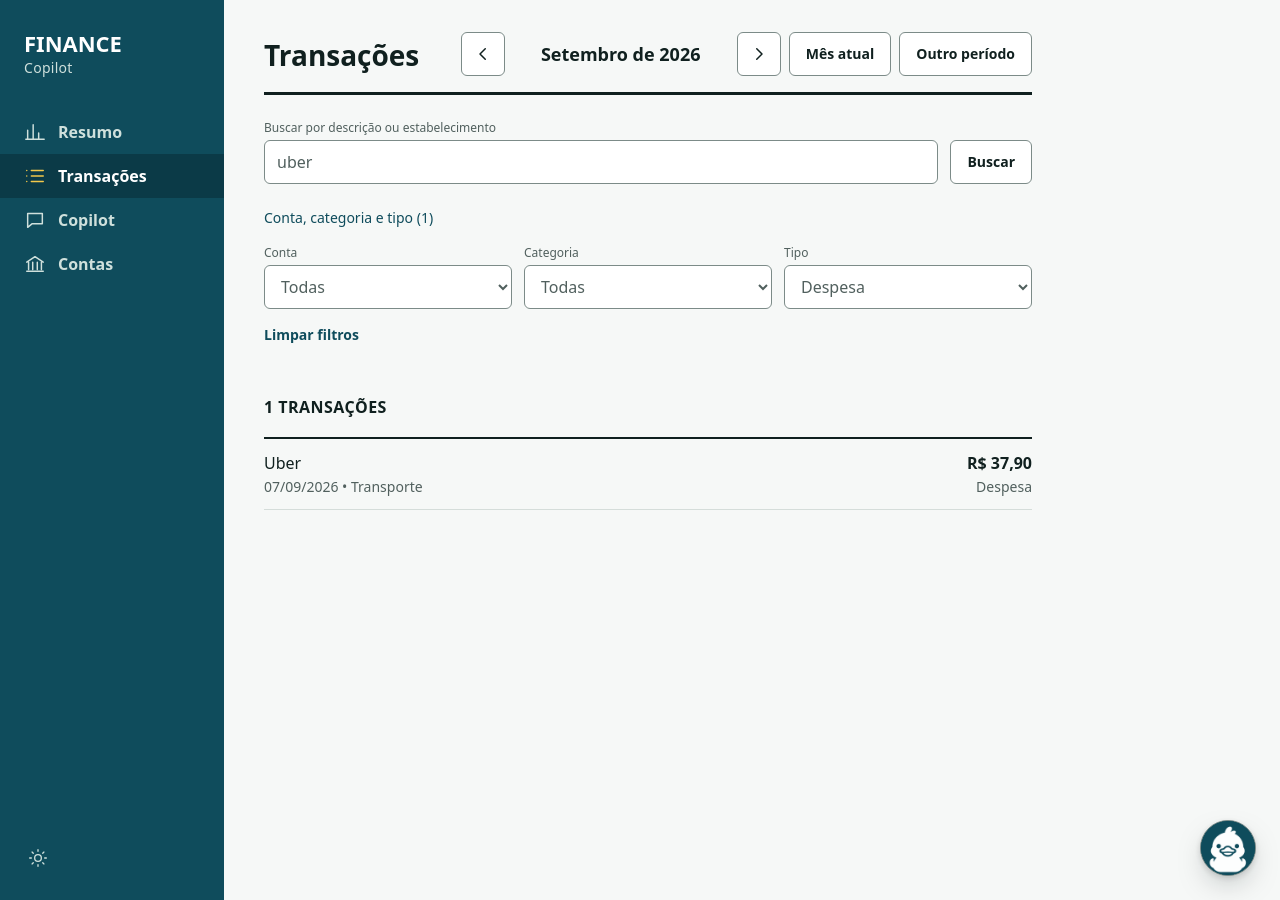
it: TransactionsPage › filters › clears every filter at once
This screenshot has width=1280, height=900.
expect the text "Uber" is shown: met, box [264,452,301,474]
Click the button "Limpar filtros" at (312, 335), box [248,313,375,357]
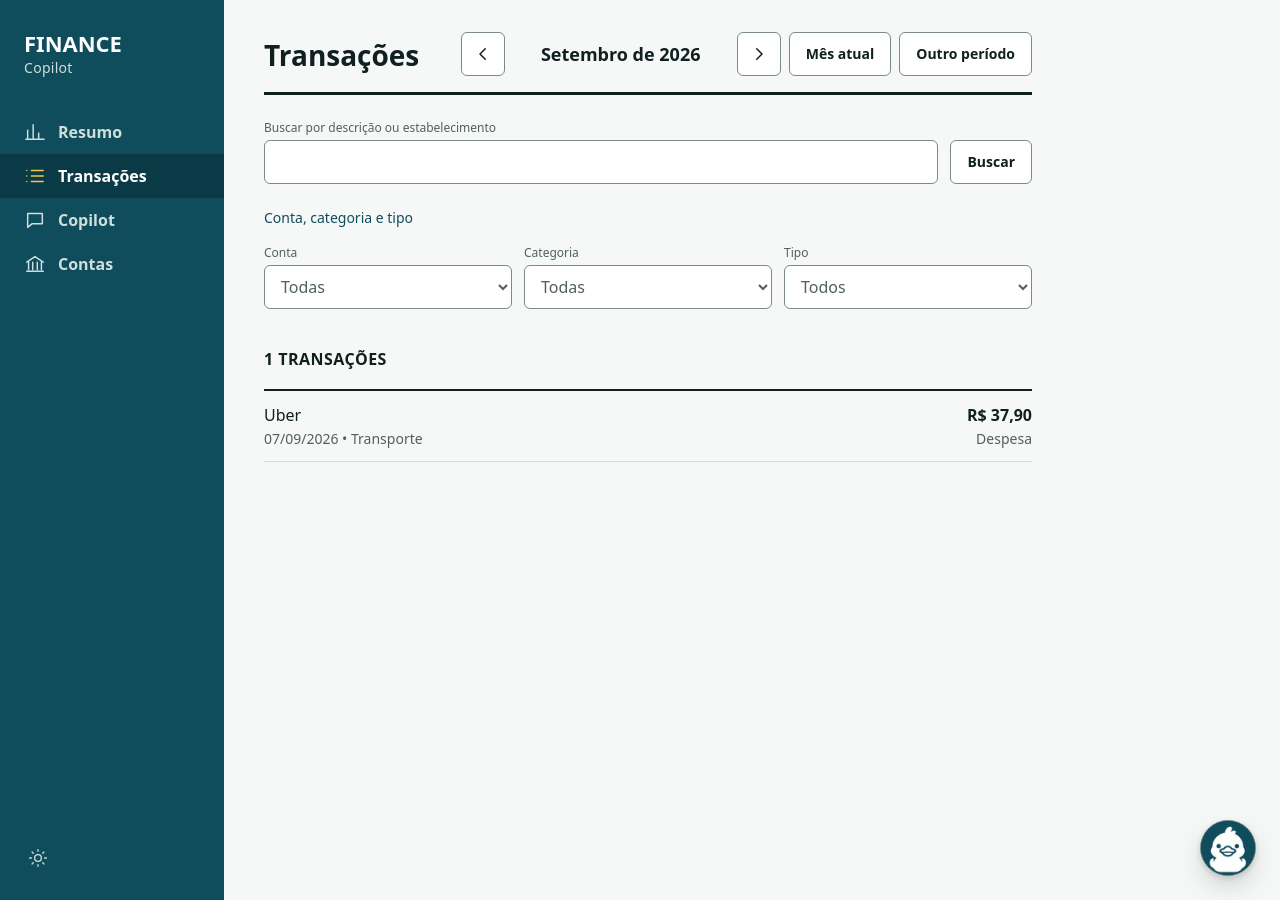
expect the search field is empty: met, box [264,140,938,184]
expect the dropdown labelled "Tipo" shows "Todos": met, box [784,265,1032,309]
